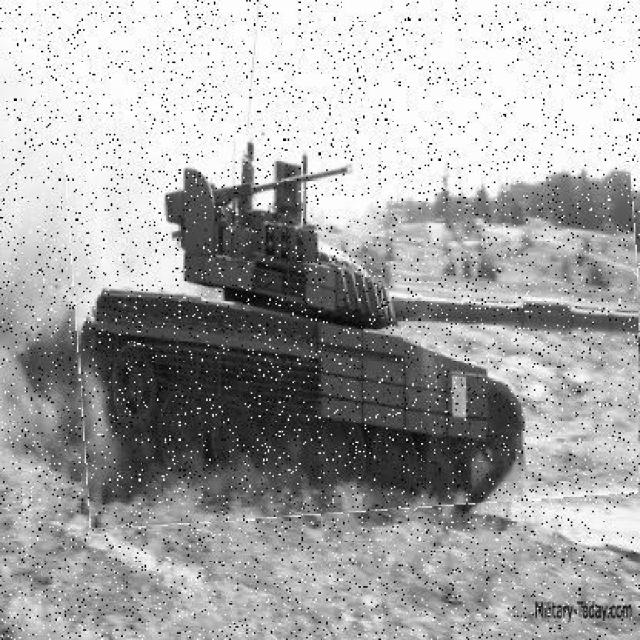Tank: (72, 121, 639, 523)
